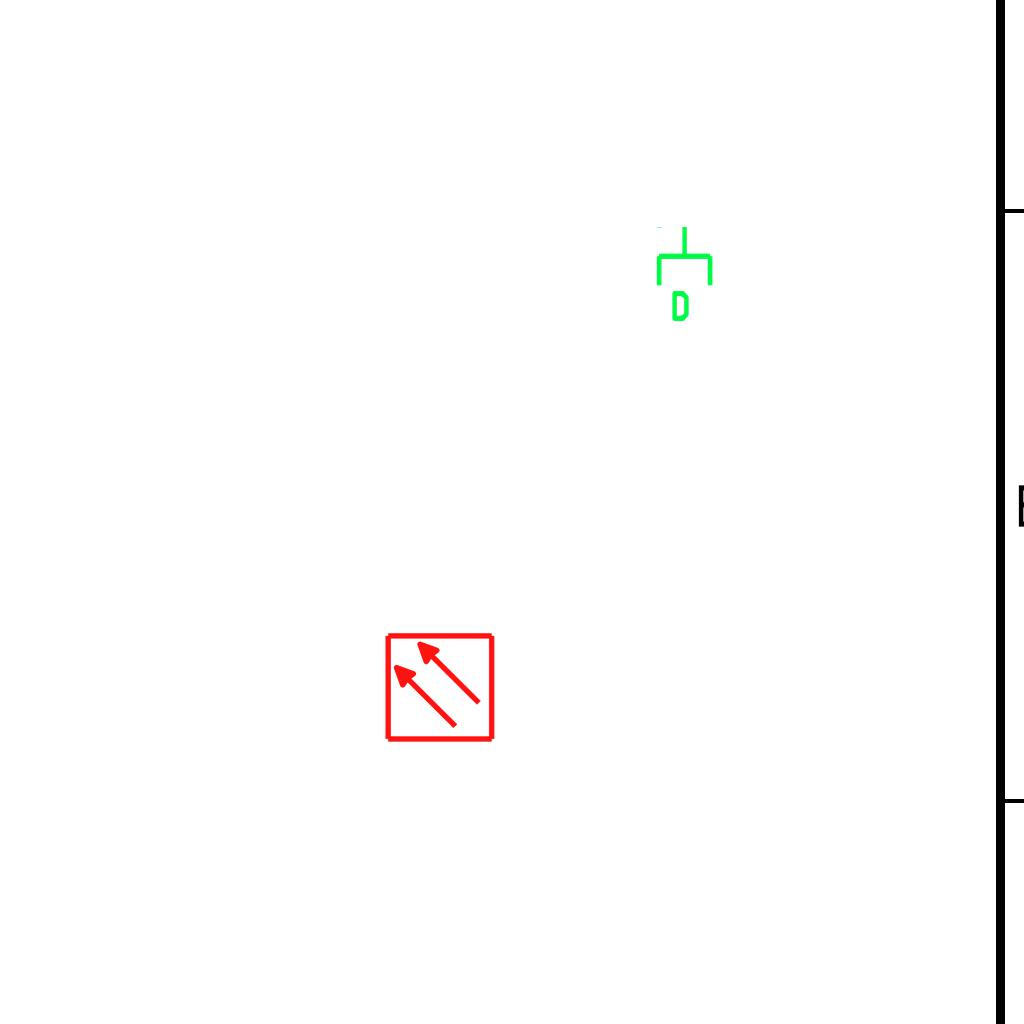Datenanschluss_einfach: (652, 224, 721, 324)
RMO_Rauchmelder_optischer: (383, 631, 496, 744)
